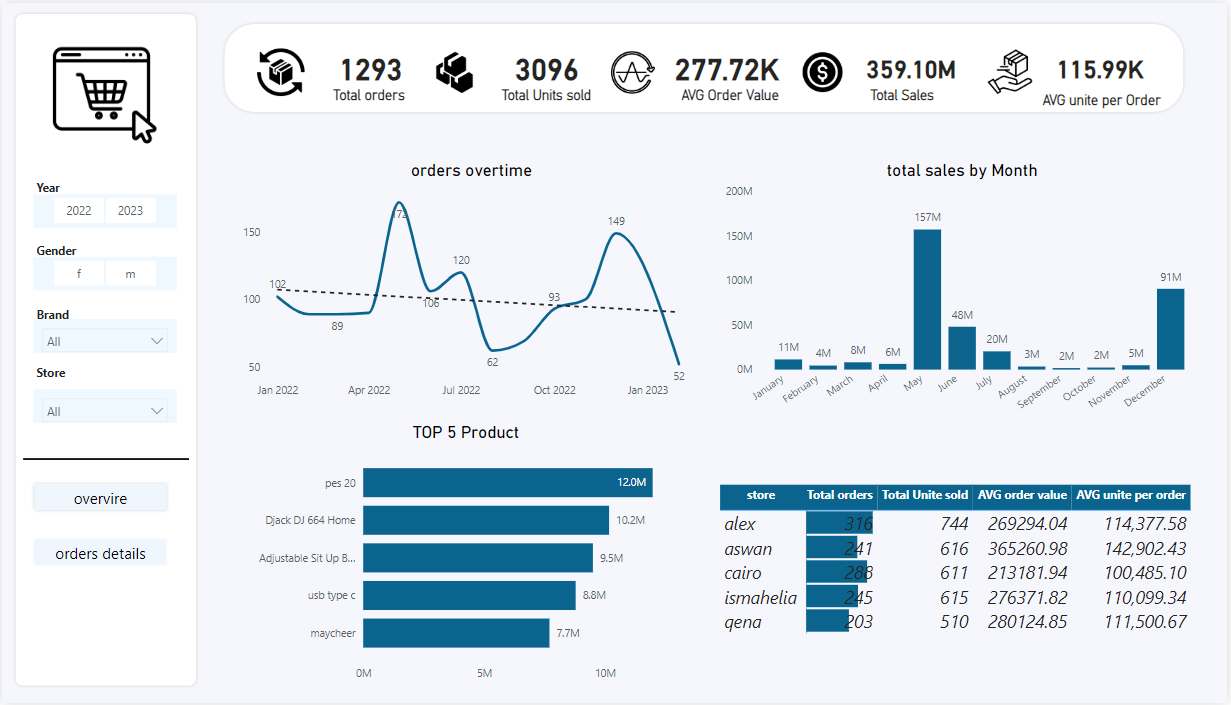

The dashboard page shown, as its layout file describes it:
{"tool":"powerbi","page":{"name":"overview","canvas":[1400,800],"ordinal":0},"visuals":[{"type":"shape","box":[10.9,9.3,214.7,776.2],"z":0},{"type":"image","box":[48.5,41.9,137.6,128.5],"z":1000},{"type":"slicer","fields":{"Values":["date_dim.year"]},"box":[35.4,218.9,163.9,38],"z":2000},{"type":"slicer","fields":{"Values":["brand_dim.brand_name"]},"box":[35.4,361.8,163.9,38],"z":3000},{"type":"slicer","fields":{"Values":["store_dim.store_name"]},"box":[35.4,441.8,163.9,38],"z":4000},{"type":"slicer","fields":{"Values":["customer_dim.gender"]},"box":[35.4,289.7,163.9,38],"z":5000},{"type":"textbox","box":[33.8,196.6,72.1,32.8],"z":6000},{"type":"textbox","box":[33.8,268.7,72.1,32.8],"z":7000},{"type":"textbox","box":[33.8,340.8,72.1,32.8],"z":8000},{"type":"textbox","box":[33.8,409,72.1,32.8],"z":9000},{"type":"shape","box":[33.1,546,159.4,37.9],"z":10000},{"type":"shape","box":[33.1,609.1,159.4,37.9],"z":11000},{"type":"shape","box":[23.7,508.1,189.4,25.2],"z":12000},{"type":"shape","box":[260.9,21.3,268.7,135],"z":13000},{"type":"shape","box":[545.3,21.3,268.7,135],"z":14000},{"type":"shape","box":[829.8,21.3,268.7,135],"z":15000},{"type":"shape","box":[1112.9,21.3,268.7,135],"z":16000},{"type":"shape","box":[260.4,181.5,621.7,290.4],"z":17000},{"type":"shape","box":[260.9,482.4,364.4,291],"z":18000},{"type":"shape","box":[637.7,482.6,364.8,290.3],"z":19000},{"type":"shape","box":[1017.2,482.4,364.4,291],"z":20000},{"type":"shape","box":[894.7,181.5,487.6,290.4],"z":21000},{"type":"card","fields":{"Values":["Sum(fact_sales.total_due)"]},"box":[329.8,63.7,184.6,80.5],"z":22000},{"type":"image","box":[281.6,78.2,58.3,55.8],"z":23000},{"type":"textbox","box":[376.2,42.6,90.4,45.9],"z":24000},{"type":"image","box":[849.6,81.9,65.7,55.8],"z":24001},{"type":"image","box":[1123.7,75.7,60.8,62],"z":24002},{"type":"card","fields":{"Values":["Sum(fact_sales.sub_total)"]},"box":[615.2,63.6,184.8,80.6],"z":24003},{"type":"card","fields":{"Values":["Sum(fact_sales.Profit)"]},"box":[902.9,63.6,184.8,80.6],"z":24004},{"type":"card","fields":{"Values":["Sum(fact_sales.quantity)"]},"box":[1184.5,63.6,184.8,80.6],"z":24005},{"type":"image","box":[559.4,81.9,55.8,55.8],"z":24006},{"type":"textbox","box":[663.6,42.6,90.5,45.9],"z":24007},{"type":"textbox","box":[951.7,42.6,103.6,45.9],"z":24008},{"type":"textbox","box":[1230.9,42.6,119.3,45.9],"z":24009},{"type":"lineChart","fields":{"Category":["date_dim.full_date.Variation.Date Hierarchy.Year","date_dim.full_date.Variation.Date Hierarchy.Quarter","date_dim.full_date.Variation.Date Hierarchy.Month","date_dim.full_date.Variation.Date Hierarchy.Day"],"Y":["Sum(fact_sales.total_due)"]},"box":[275.7,212.9,568.6,242.9],"z":24010},{"type":"textbox","box":[438.6,190,268.6,45.7],"z":24011},{"type":"barChart","fields":{"Category":["customer_dim.city"],"Y":["Sum(fact_sales.total_due)"]},"box":[281.4,515.7,327.1,245.7],"z":24012},{"type":"textbox","box":[392.9,494.3,91.4,34.3],"z":24013},{"type":"columnChart","fields":{"Category":["fact_sales.payment_method"],"Y":["Sum(fact_sales.total_due)"]},"box":[1035.7,521.4,332.9,232.9],"z":24014},{"type":"textbox","box":[1131.4,488.6,137.1,45.7],"z":24015},{"type":"columnChart","fields":{"Y":["CountNonNull(customer_dim.account_id)"],"Category":["customer_dim.age (bins)"]},"box":[902.9,218.6,465.7,248.6],"z":24016},{"type":"textbox","box":[1020,190,235.7,40],"z":24017},{"type":"barChart","fields":{"Y":["Sum(fact_sales.total_due)"],"Category":["customer_dim.name"]},"box":[651.4,508.6,335.7,245.7],"z":24018},{"type":"textbox","box":[758.6,494.3,135.7,34.3],"z":24019}]}

Visuals, with their boxes in screenshot pixels (x1, y1, x2, y2), scaled from the page's 1400x800 canvas onto the 1231x705 screenshot:
shape: (x1=10, y1=8, x2=198, y2=692)
image: (x1=43, y1=37, x2=164, y2=150)
slicer - date_dim.year: (x1=31, y1=193, x2=175, y2=226)
slicer - brand_dim.brand_name: (x1=31, y1=319, x2=175, y2=352)
slicer - store_dim.store_name: (x1=31, y1=389, x2=175, y2=423)
slicer - customer_dim.gender: (x1=31, y1=255, x2=175, y2=289)
textbox: (x1=30, y1=173, x2=93, y2=202)
textbox: (x1=30, y1=237, x2=93, y2=266)
textbox: (x1=30, y1=300, x2=93, y2=329)
textbox: (x1=30, y1=360, x2=93, y2=389)
shape: (x1=29, y1=481, x2=169, y2=515)
shape: (x1=29, y1=537, x2=169, y2=570)
shape: (x1=21, y1=448, x2=187, y2=470)
shape: (x1=229, y1=19, x2=466, y2=138)
shape: (x1=479, y1=19, x2=716, y2=138)
shape: (x1=730, y1=19, x2=966, y2=138)
shape: (x1=979, y1=19, x2=1215, y2=138)
shape: (x1=229, y1=160, x2=776, y2=416)
shape: (x1=229, y1=425, x2=550, y2=682)
shape: (x1=561, y1=425, x2=881, y2=681)
shape: (x1=894, y1=425, x2=1215, y2=682)
shape: (x1=787, y1=160, x2=1215, y2=416)
card - Sum(fact_sales.total_due): (x1=290, y1=56, x2=452, y2=127)
image: (x1=248, y1=69, x2=299, y2=118)
textbox: (x1=331, y1=38, x2=410, y2=78)
image: (x1=747, y1=72, x2=805, y2=121)
image: (x1=988, y1=67, x2=1042, y2=121)
card - Sum(fact_sales.sub_total): (x1=541, y1=56, x2=703, y2=127)
card - Sum(fact_sales.Profit): (x1=794, y1=56, x2=956, y2=127)
card - Sum(fact_sales.quantity): (x1=1042, y1=56, x2=1204, y2=127)
image: (x1=492, y1=72, x2=541, y2=121)
textbox: (x1=583, y1=38, x2=663, y2=78)
textbox: (x1=837, y1=38, x2=928, y2=78)
textbox: (x1=1082, y1=38, x2=1187, y2=78)
lineChart - date_dim.full_date.Variation.Date Hierarchy.Year x date_dim.full_date.Variation.Date Hierarchy.Quarter: (x1=242, y1=188, x2=742, y2=402)
textbox: (x1=386, y1=167, x2=622, y2=208)
barChart - customer_dim.city x Sum(fact_sales.total_due): (x1=247, y1=454, x2=535, y2=671)
textbox: (x1=345, y1=436, x2=426, y2=466)
columnChart - fact_sales.payment_method x Sum(fact_sales.total_due): (x1=911, y1=459, x2=1203, y2=665)
textbox: (x1=995, y1=431, x2=1115, y2=471)
columnChart - CountNonNull(customer_dim.account_id) x customer_dim.age (bins): (x1=794, y1=193, x2=1203, y2=412)
textbox: (x1=897, y1=167, x2=1104, y2=203)
barChart - Sum(fact_sales.total_due) x customer_dim.name: (x1=573, y1=448, x2=868, y2=665)
textbox: (x1=667, y1=436, x2=786, y2=466)
